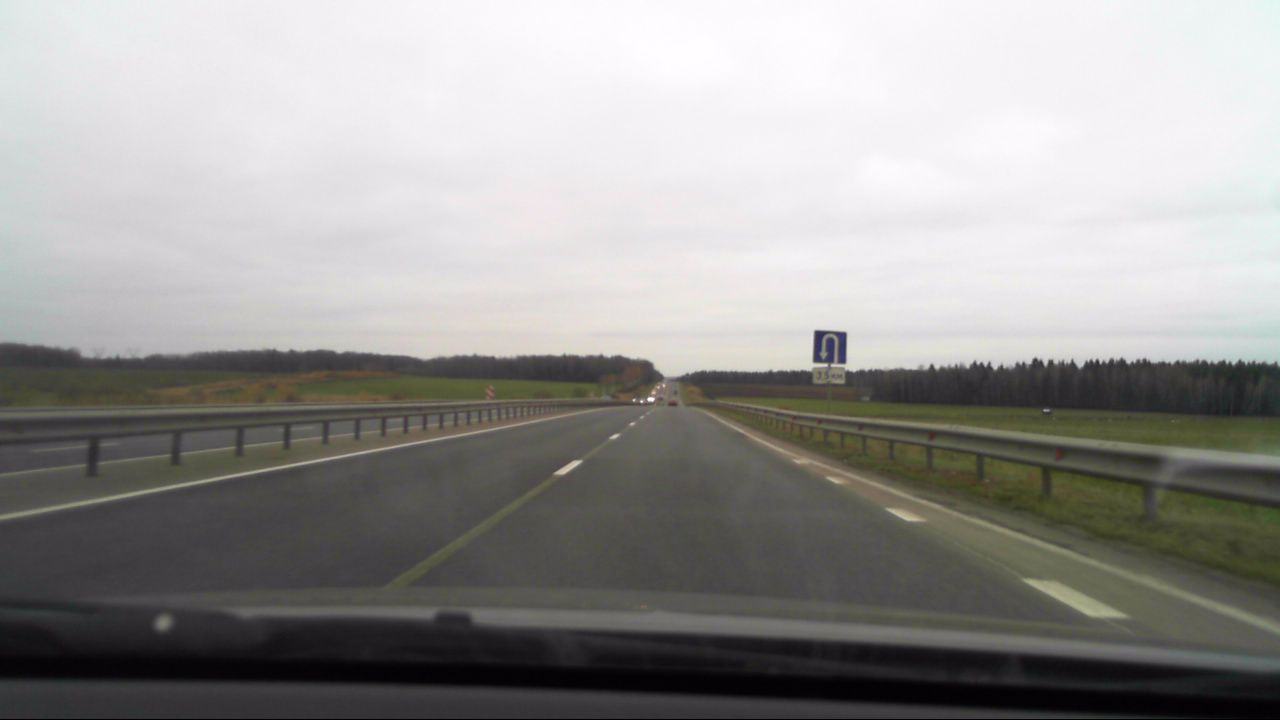U-turn: (814, 331, 845, 364)
